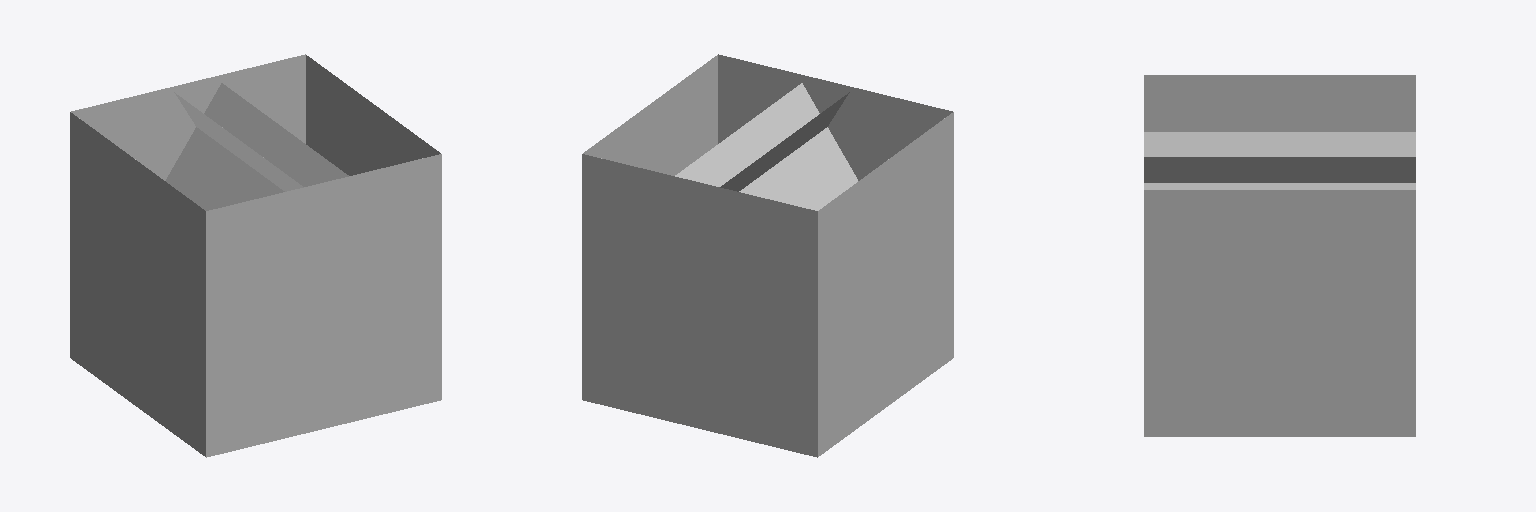
The model's file is Blue.obj.
3 renders of one model, left to right at view 1: azimuth 30°, elevation 25°; view 2: azimuth 150°, elevation 25°; view 3: azimuth 270°, elevation 25°, orthographic.
Visible parts, largest first — view 1: Plane6, Plane5, Plane2, Plane4, Plane1, Plane3; view 2: Plane2, Plane5, Plane6, Plane4, Plane1, Plane3; view 3: Plane1, Plane5, Plane3, Plane4.
Part boxes in pixels (x1,y1,x2,y2): Plane6: (206, 154, 441, 457); Plane5: (70, 112, 205, 456); Plane2: (71, 54, 305, 180); Plane4: (166, 83, 348, 210); Plane1: (306, 55, 440, 175); Plane3: (174, 92, 303, 191); Plane2: (582, 154, 817, 457); Plane5: (818, 112, 953, 456); Plane6: (718, 54, 952, 180); Plane4: (675, 83, 857, 210); Plane1: (583, 55, 717, 175); Plane3: (720, 92, 849, 191); Plane1: (1144, 190, 1415, 436); Plane5: (1144, 75, 1415, 131); Plane3: (1144, 132, 1415, 189); Plane4: (1144, 157, 1415, 182).
Bounding box in the file's own units: 1 × 1 × 1.